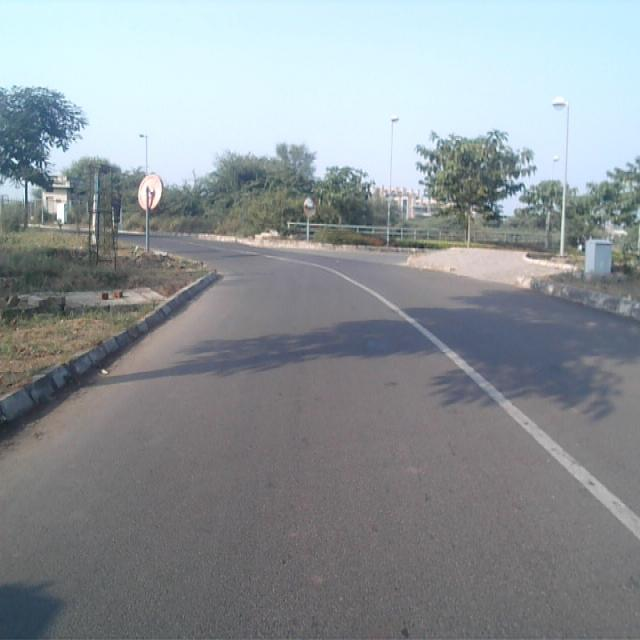lane: (0, 240, 640, 640)
